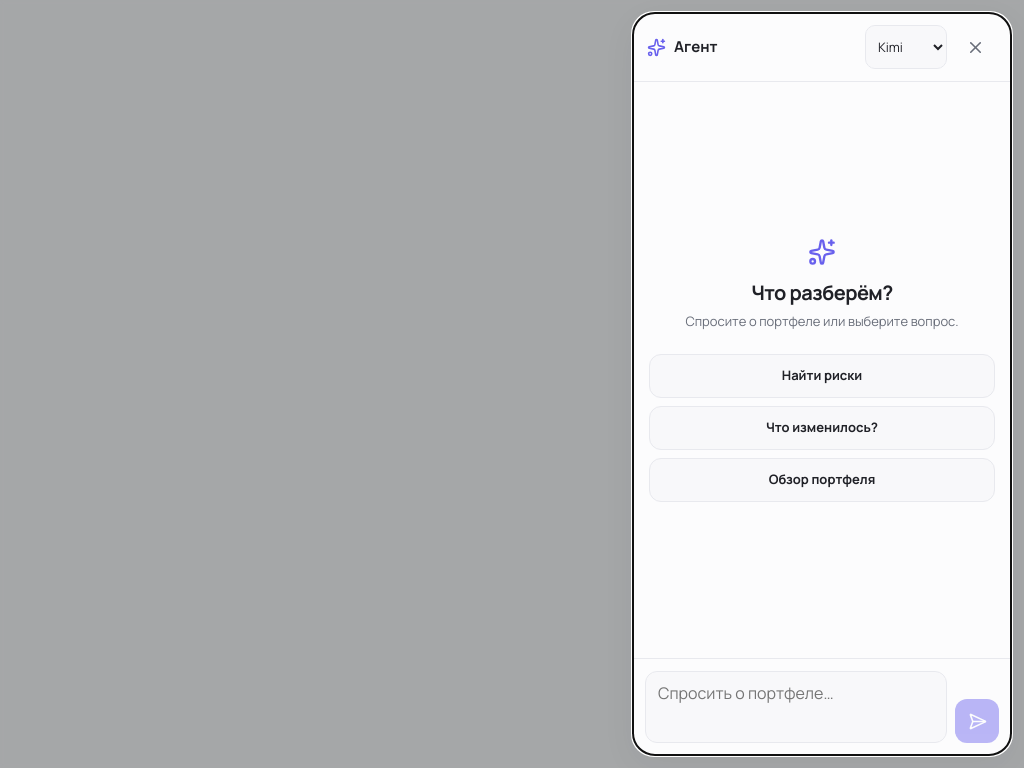
answers a quick question with the selected demo agent
Later steps or results of the test are not shown.
Select "Kimi" in the dropdown named "Модель". click: point(906, 47)
box: left=865, top=25, right=947, bottom=69
Click the button "Найти риски". click: point(822, 376)
box: left=649, top=354, right=995, bottom=398
Wait 450 ms
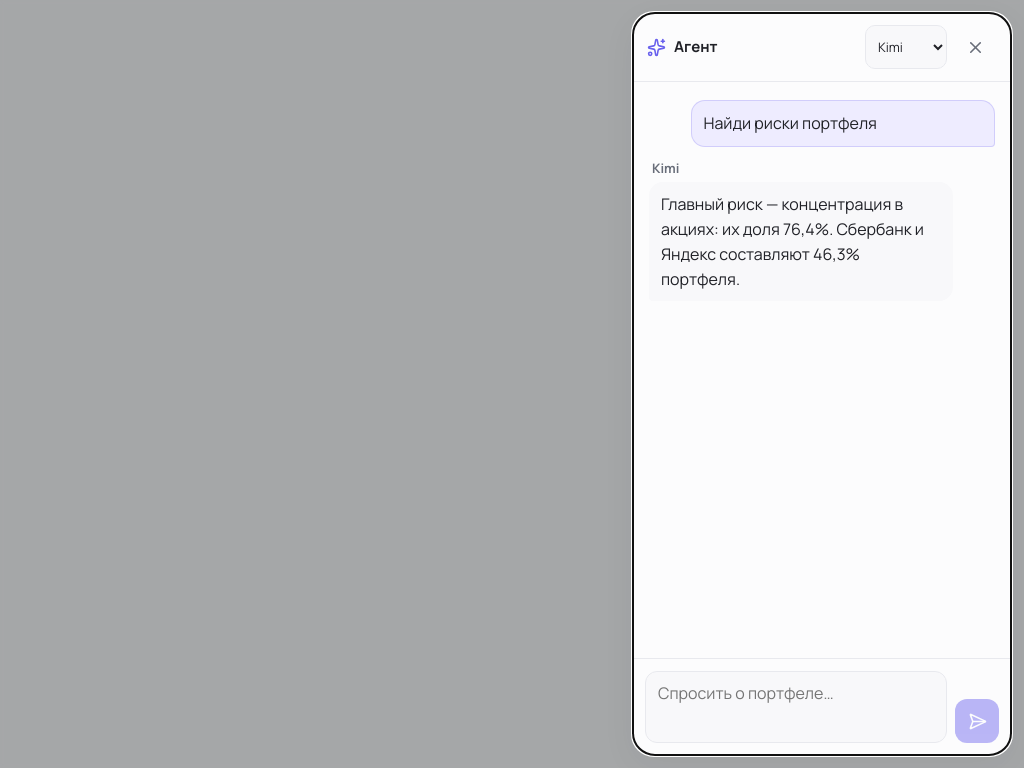
Expected: the text "Найди риски портфеля" is shown, left=690, top=100, right=995, bottom=147
Expected: the text "концентрация в акциях" is shown, left=661, top=193, right=927, bottom=290
